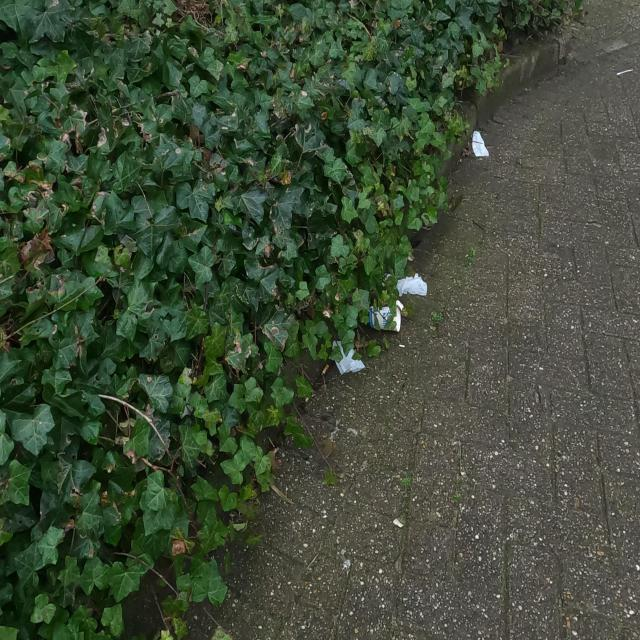Cup: (368, 298, 404, 332)
Mask: (472, 130, 489, 158)
Paper: (332, 339, 366, 376), (396, 272, 428, 298)
